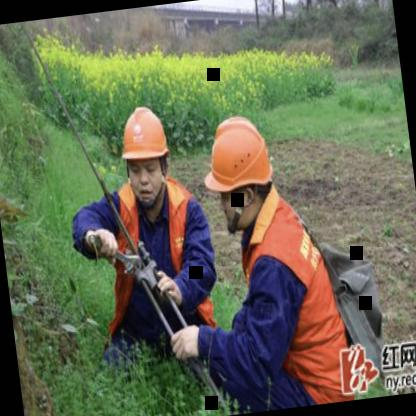helmet: (193, 99, 290, 238), (112, 91, 178, 212)
